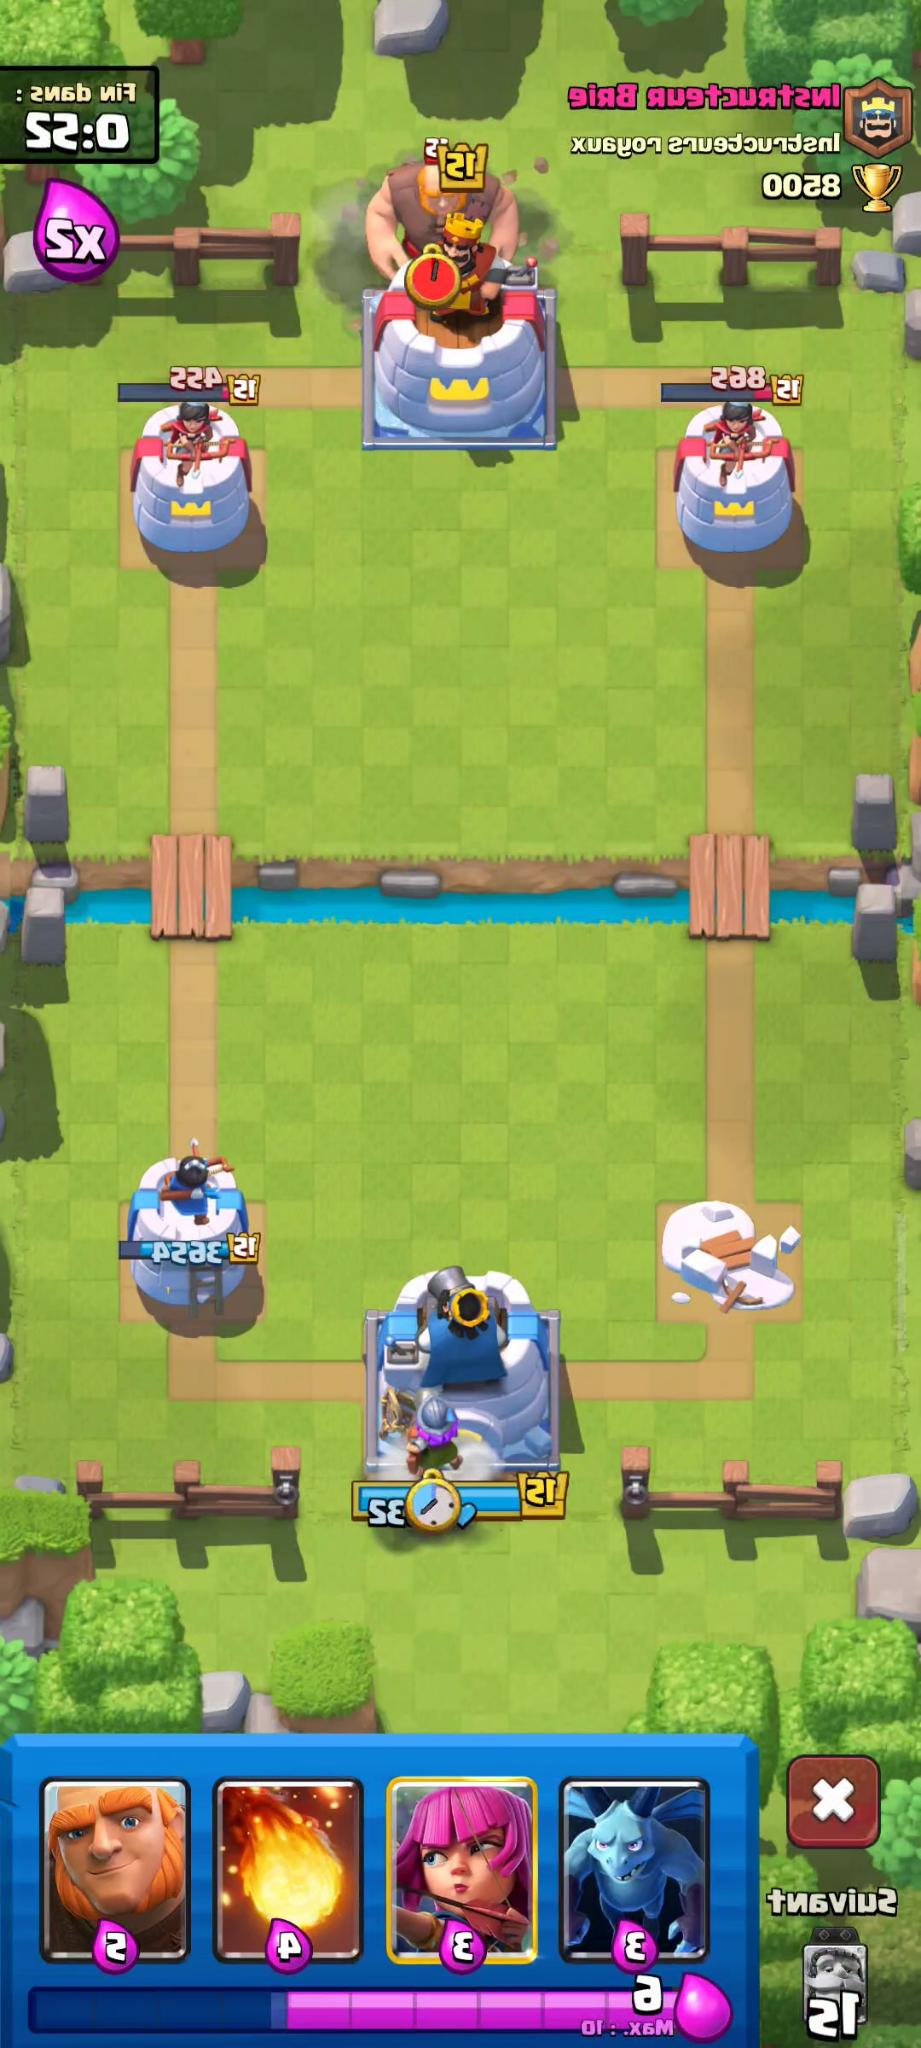geant: (349, 129, 516, 304)
mousquetaire: (391, 1381, 462, 1488)
